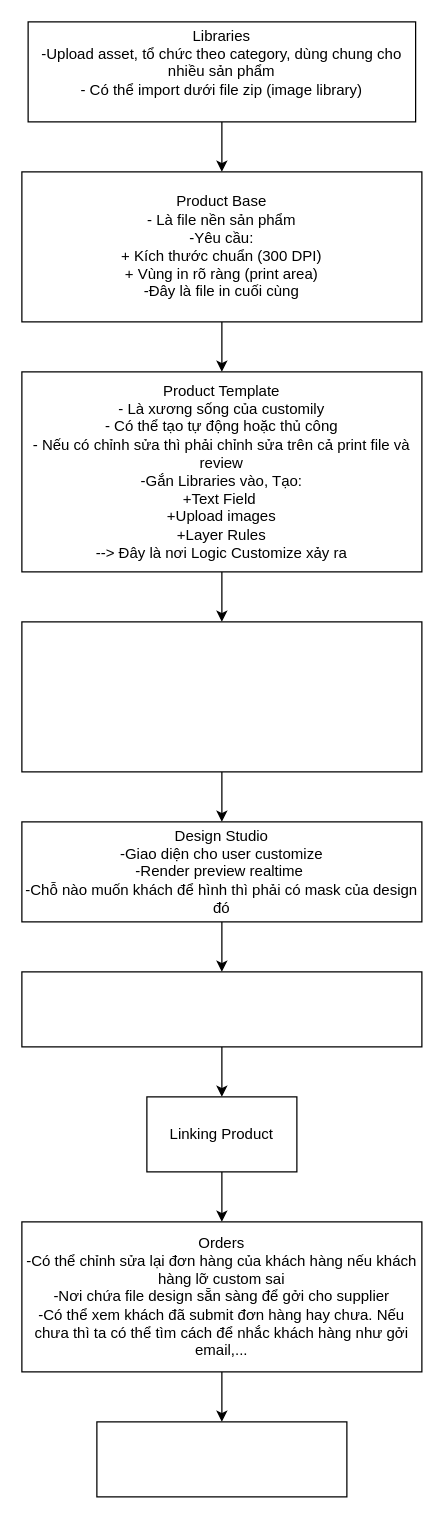
The diagram is 444 pixels wide and 1519 high, and some of its shapes have lost their labels. Here are the shapes that lost their labels. From the top down, the centre of each, then its label:
At (x=221, y=696): "Option Set -Nơi set up các tùy chỉnh phía bên khách hàng -Gắn vào UI Front-end".
At (x=221, y=1009): "Design -Output của user sau khi customize".
At (x=221, y=1459): "Setting -Intergrations API Key".
